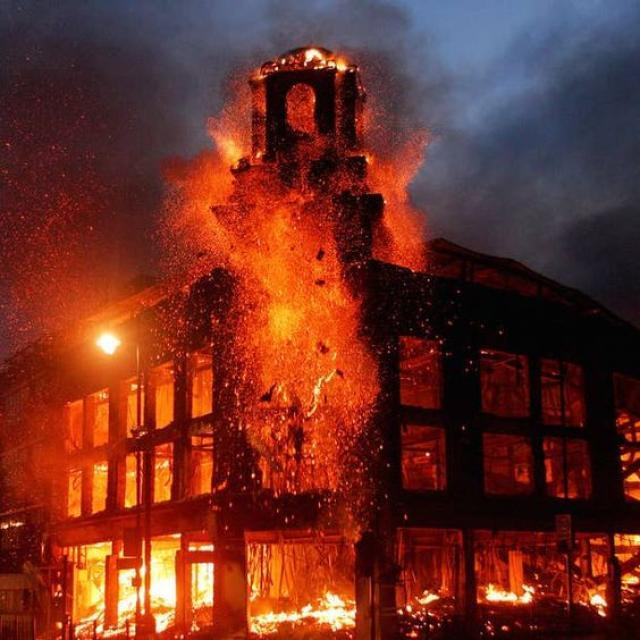Fire: (240, 37, 438, 518), (64, 400, 241, 640), (258, 546, 386, 640), (484, 534, 580, 638)
